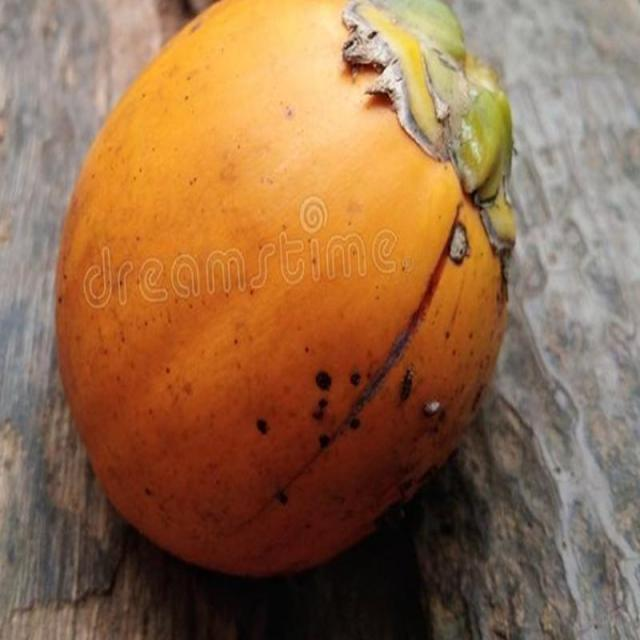good: (53, 0, 517, 583)
